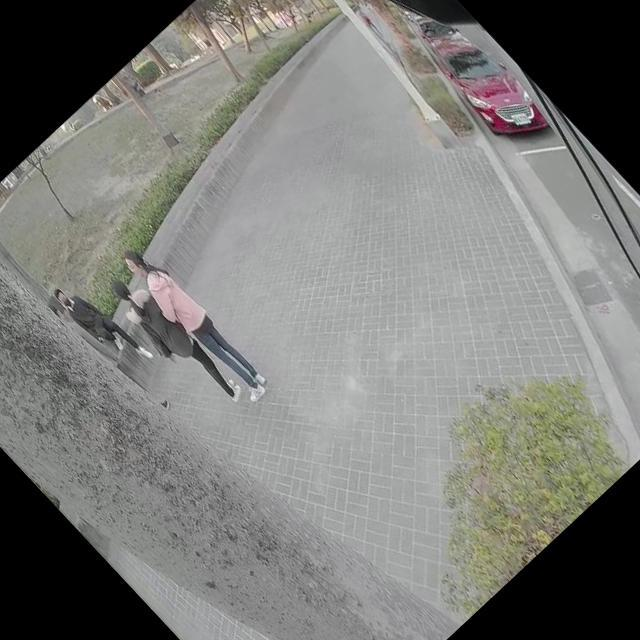person: (119, 244, 272, 406), (100, 266, 244, 417), (46, 292, 170, 422), (52, 272, 152, 378)
